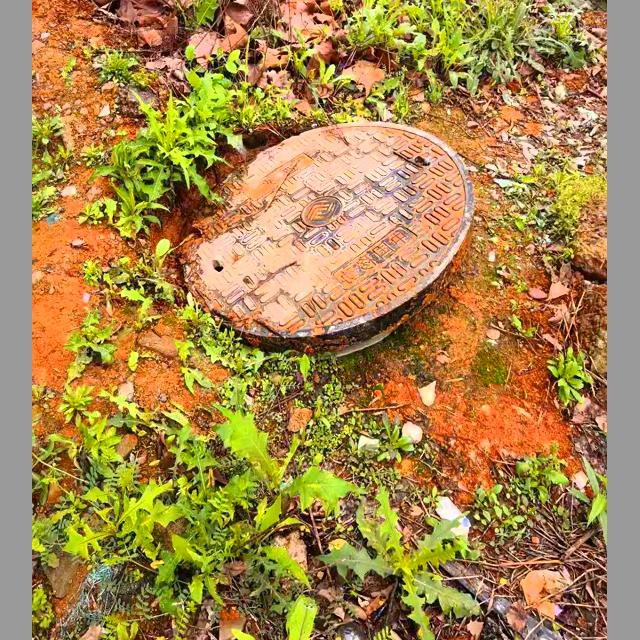uncovered: (123, 101, 486, 360)
